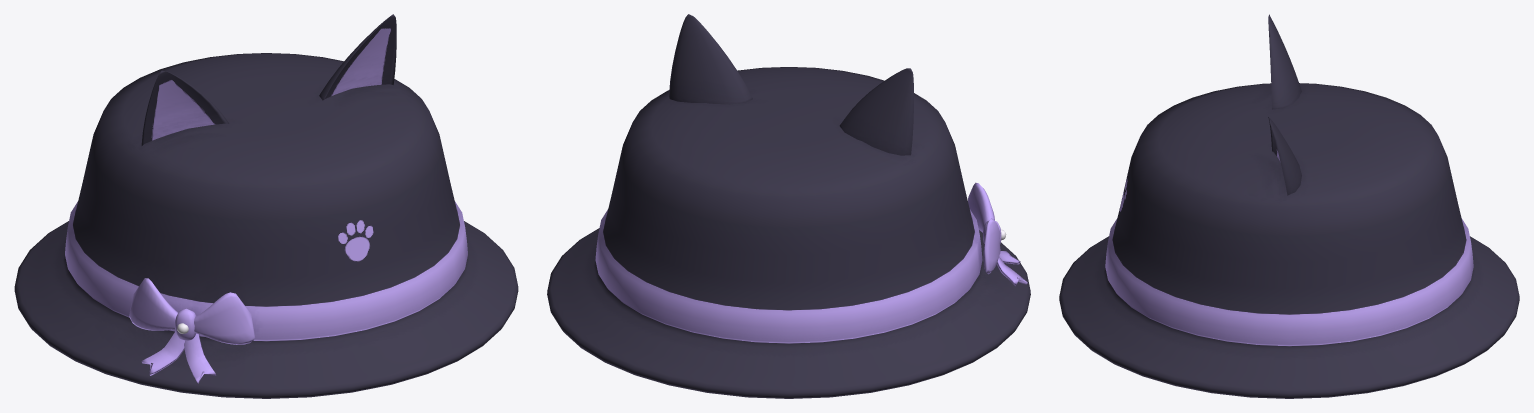
The model's file is NekoBucketHat_Minuit.fbx.
3 renders of one model, left to right at view 1: azimuth 30°, elevation 25°; view 2: azimuth 150°, elevation 25°; view 3: azimuth 270°, elevation 25°, orthographic. The views are drawn at different scales.
Visible parts, largest first — view 1: NekoBucketHat; view 2: NekoBucketHat; view 3: NekoBucketHat.
Part boxes in pixels (box(x1,y1,x2,y2)): NekoBucketHat: box(14, 14, 518, 398); NekoBucketHat: box(547, 14, 1030, 398); NekoBucketHat: box(1059, 14, 1519, 398).
Bounding box in the file's own units: 1.74 × 0.9888 × 1.74.
1 material, 1 textured.
